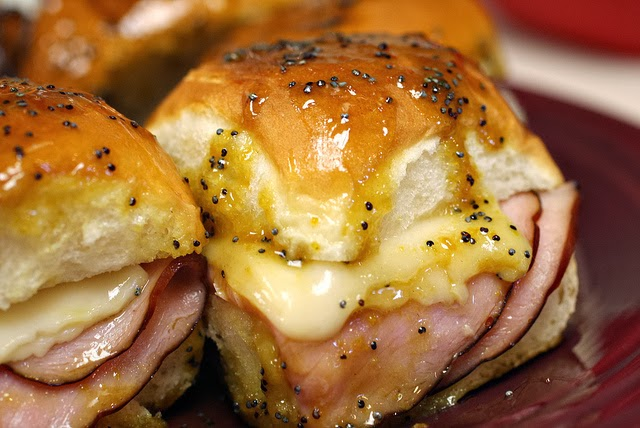cheese: (263, 225, 511, 342)
